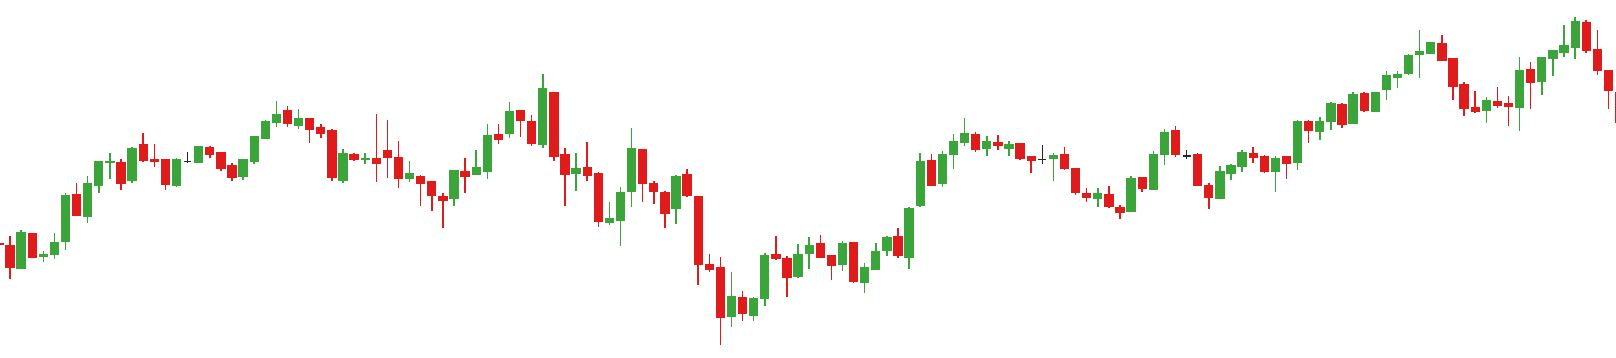sell: (1414, 7, 1592, 89)
